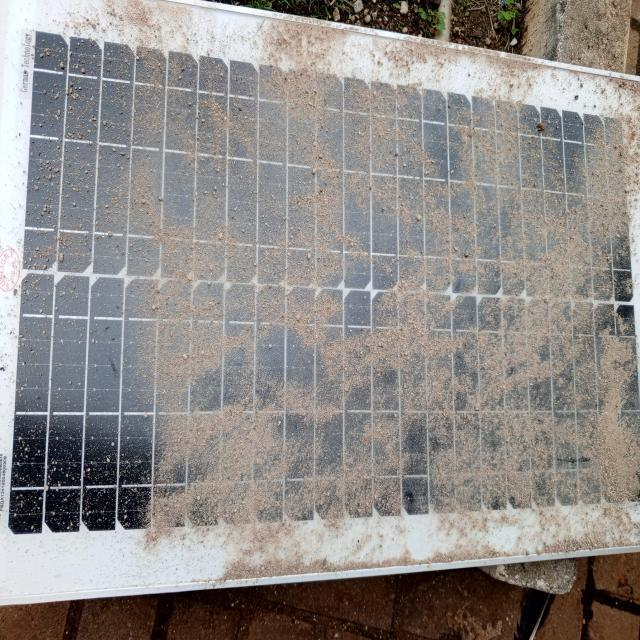Surface Contaminant: (5, 29, 638, 535)
